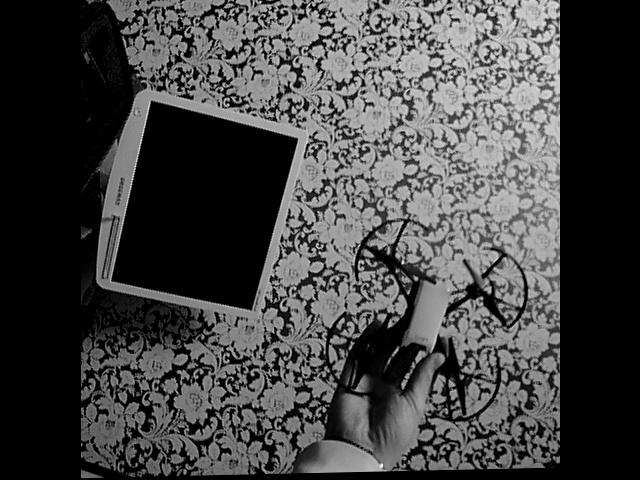drone: (319, 203, 531, 436)
